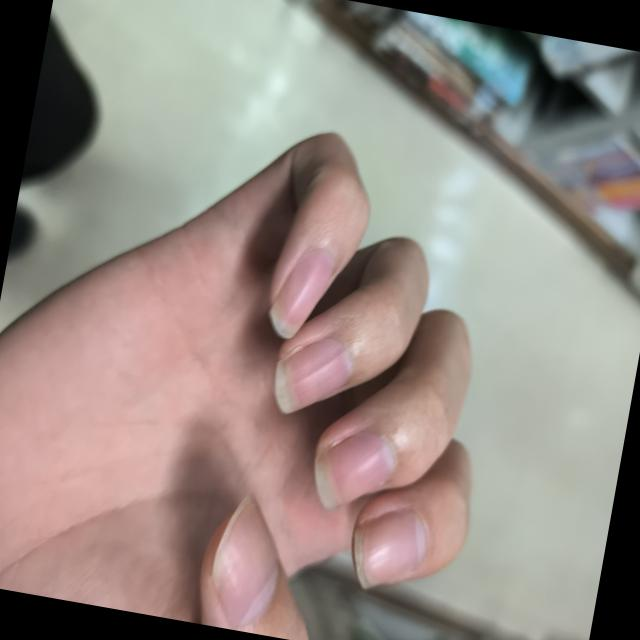Nail: (212, 494, 276, 626), (274, 336, 352, 414), (314, 432, 393, 509), (269, 248, 332, 340), (353, 509, 424, 588)
